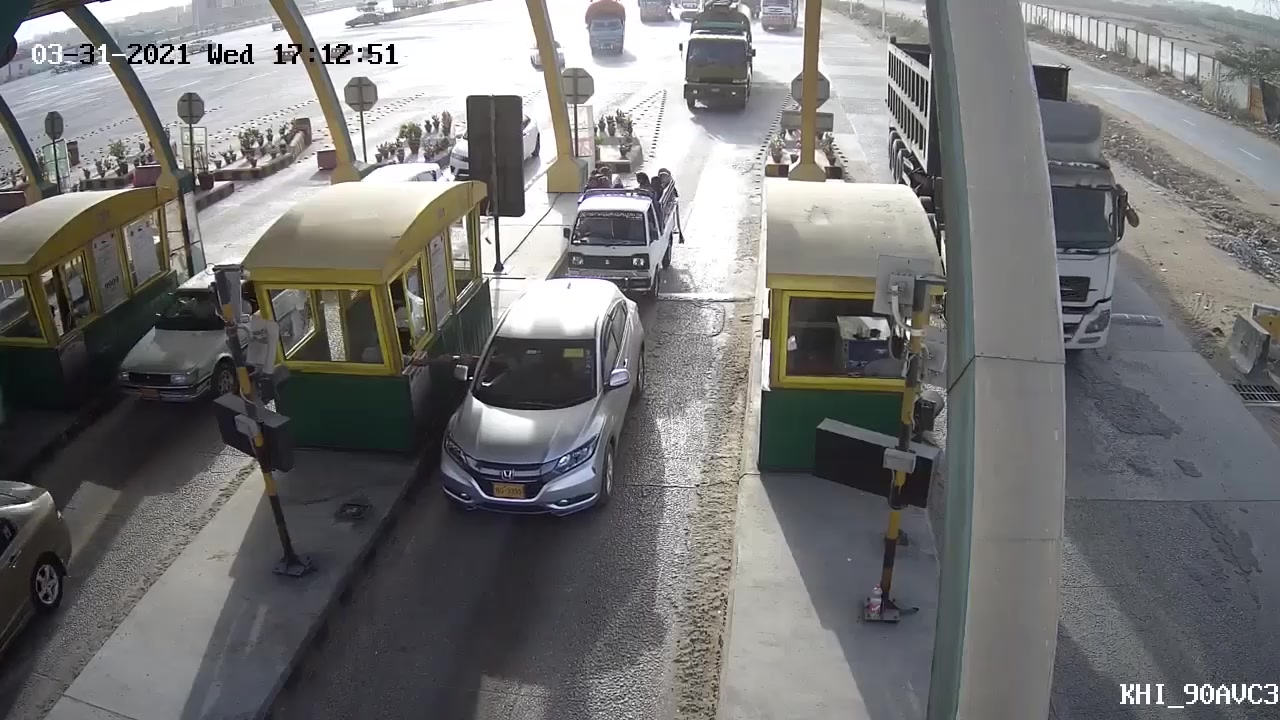F1: (420, 275, 651, 536), (555, 157, 682, 292)
